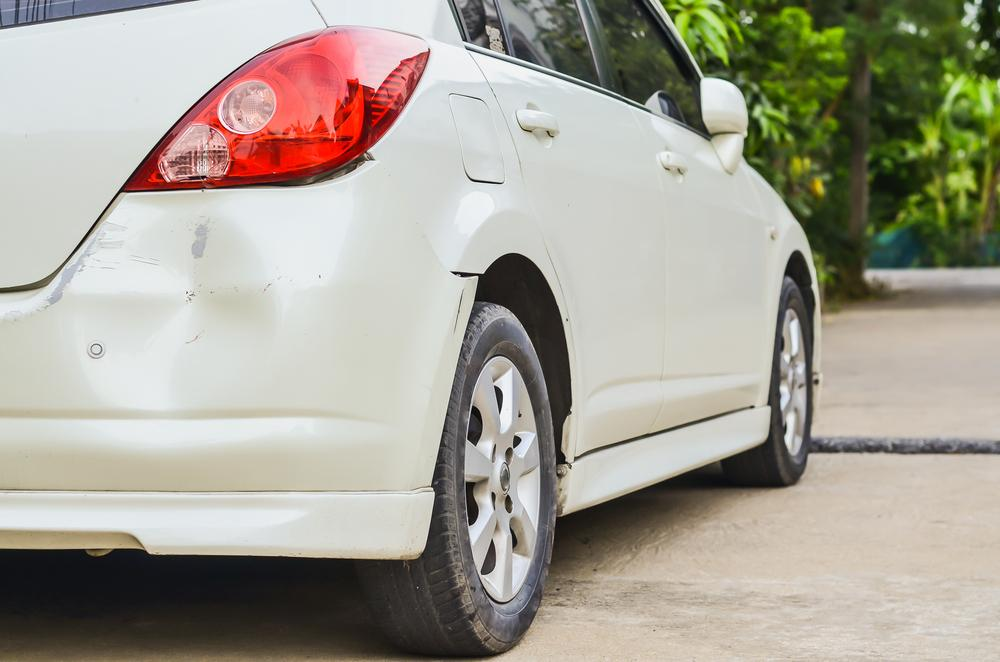dent: (74, 210, 279, 441)
lamp broken: (119, 26, 430, 192)
scratch: (0, 223, 112, 323)
